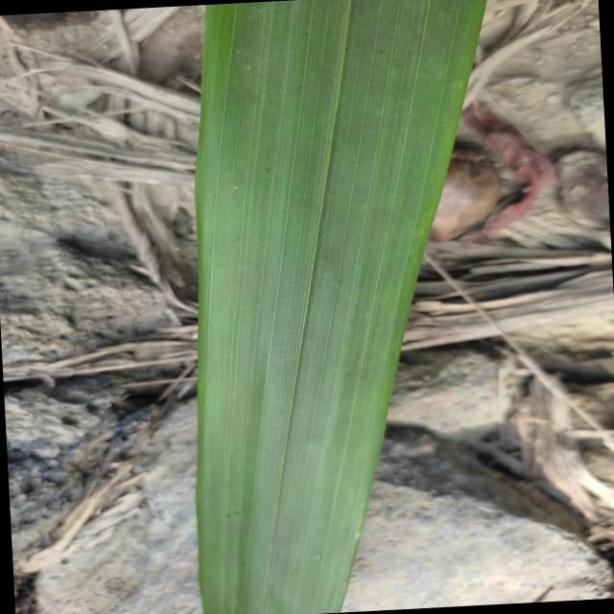Healthy: (199, 0, 484, 614)
